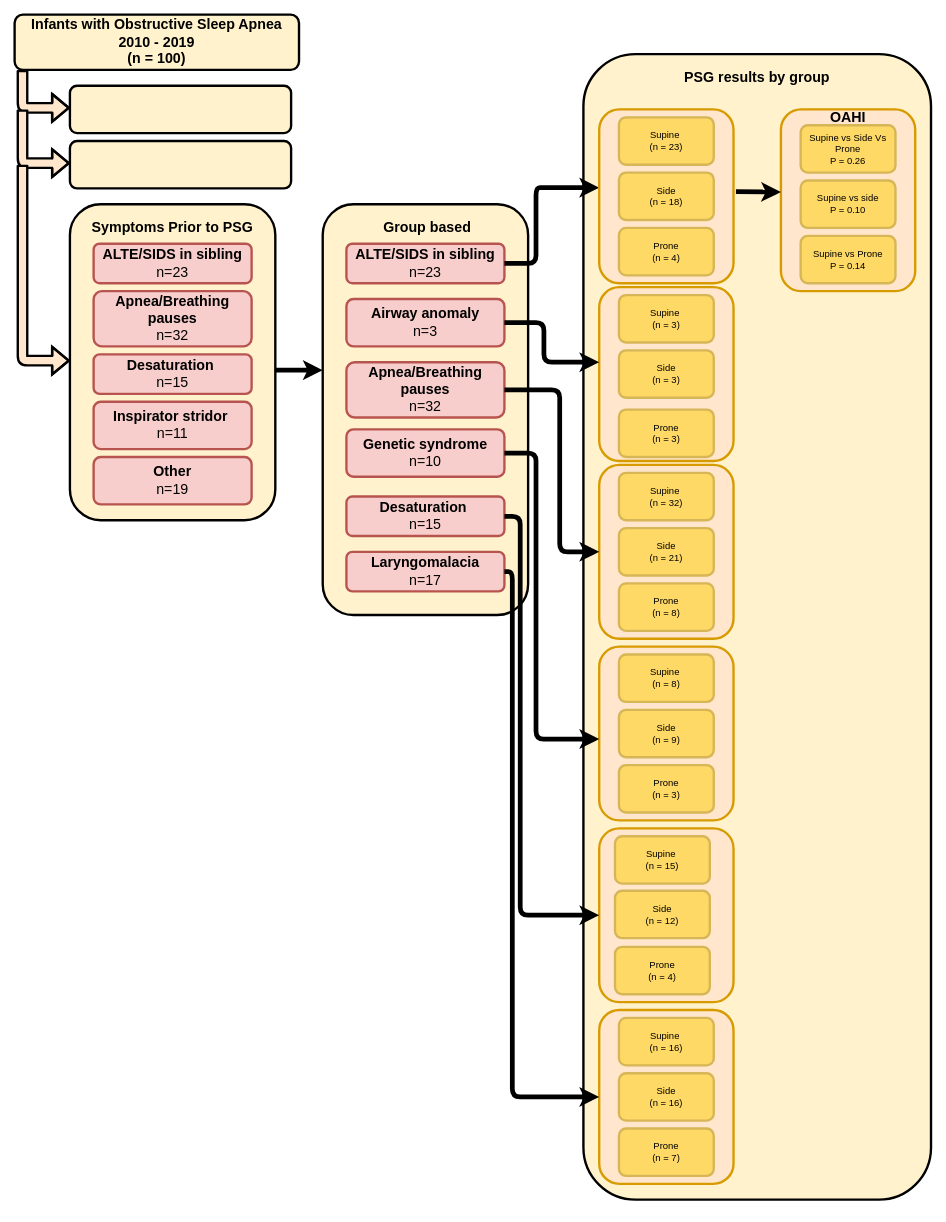
Some shapes in this 946 by 1222 pixel diagram are drawn without their labels. The shapes that lost their labels are listed below. From the top down, each one's centre as x and y in pixels, then its label:
At [180,109]: "Full-night PSG Performed (n = 11)".
At [180,164]: "Daytime recording Performed (n = 89)".
